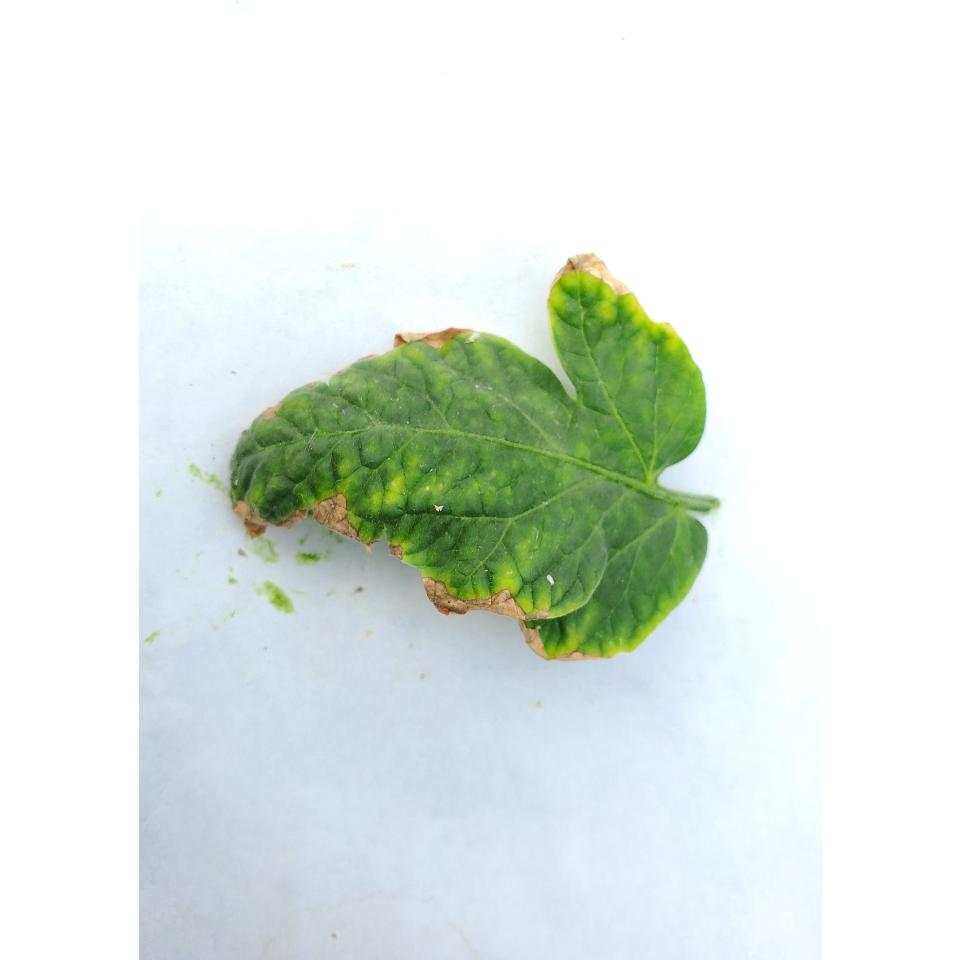tomato_bacterial_blight: (205, 246, 759, 664)
